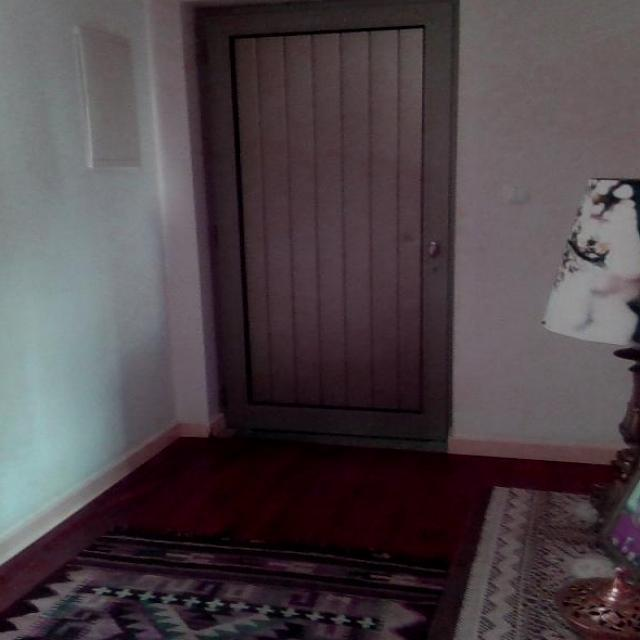door: (194, 1, 457, 449)
